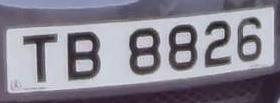2: (201, 14, 237, 73)
6: (233, 12, 269, 66)
8: (126, 19, 166, 85), (164, 18, 203, 78)
B: (62, 24, 109, 88)
T: (16, 28, 66, 89)
